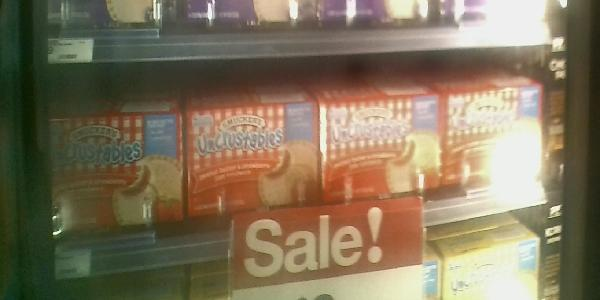icecream: (186, 100, 321, 233), (49, 107, 189, 232), (328, 89, 446, 217), (441, 75, 547, 196)
